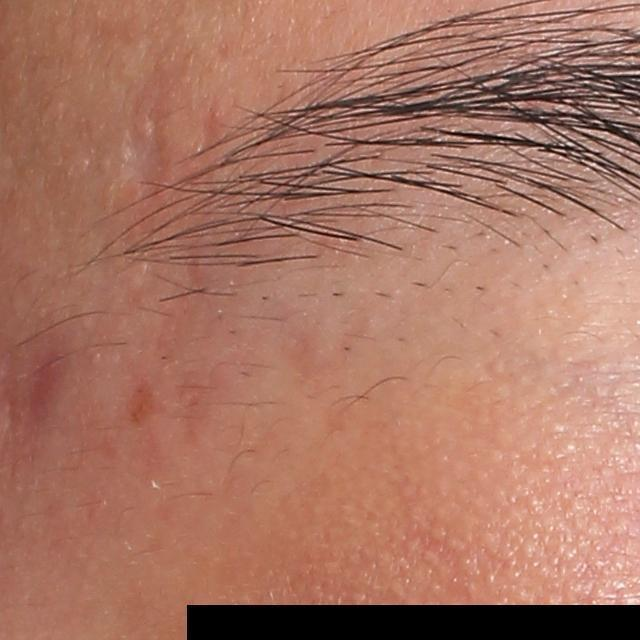atrophic_scar: (100, 101, 176, 211)
melasma: (127, 372, 169, 425)
